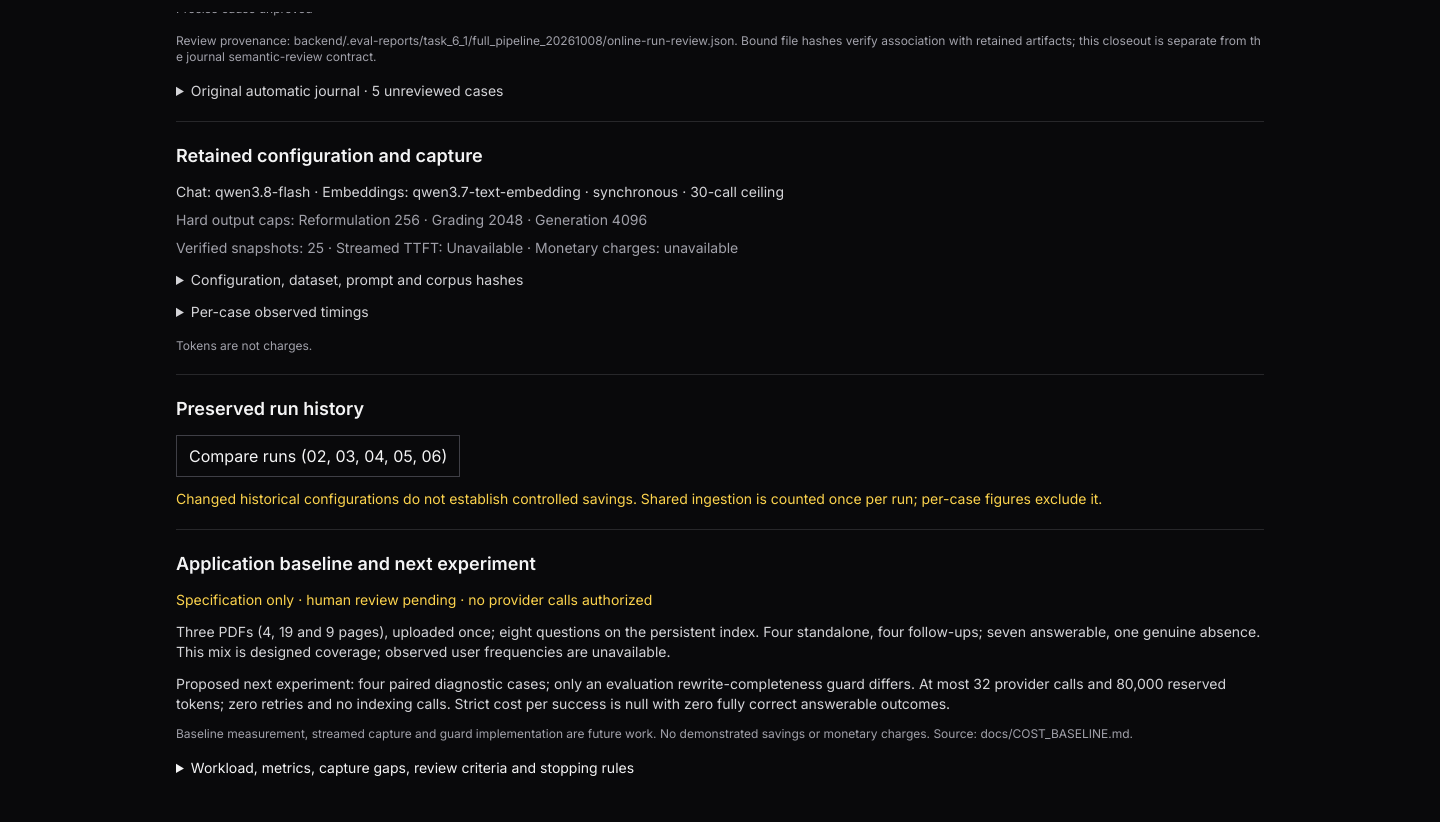
Test case: CostStation › compares interrupted history without treating unknown usage or reviews as success
The width and height of the screenshot is (1440, 822).
(page scrolled)
Click the button "Compare runs (02, 03, 04, 05, 06)": (318, 456) x1=176 y1=435 x2=460 y2=477
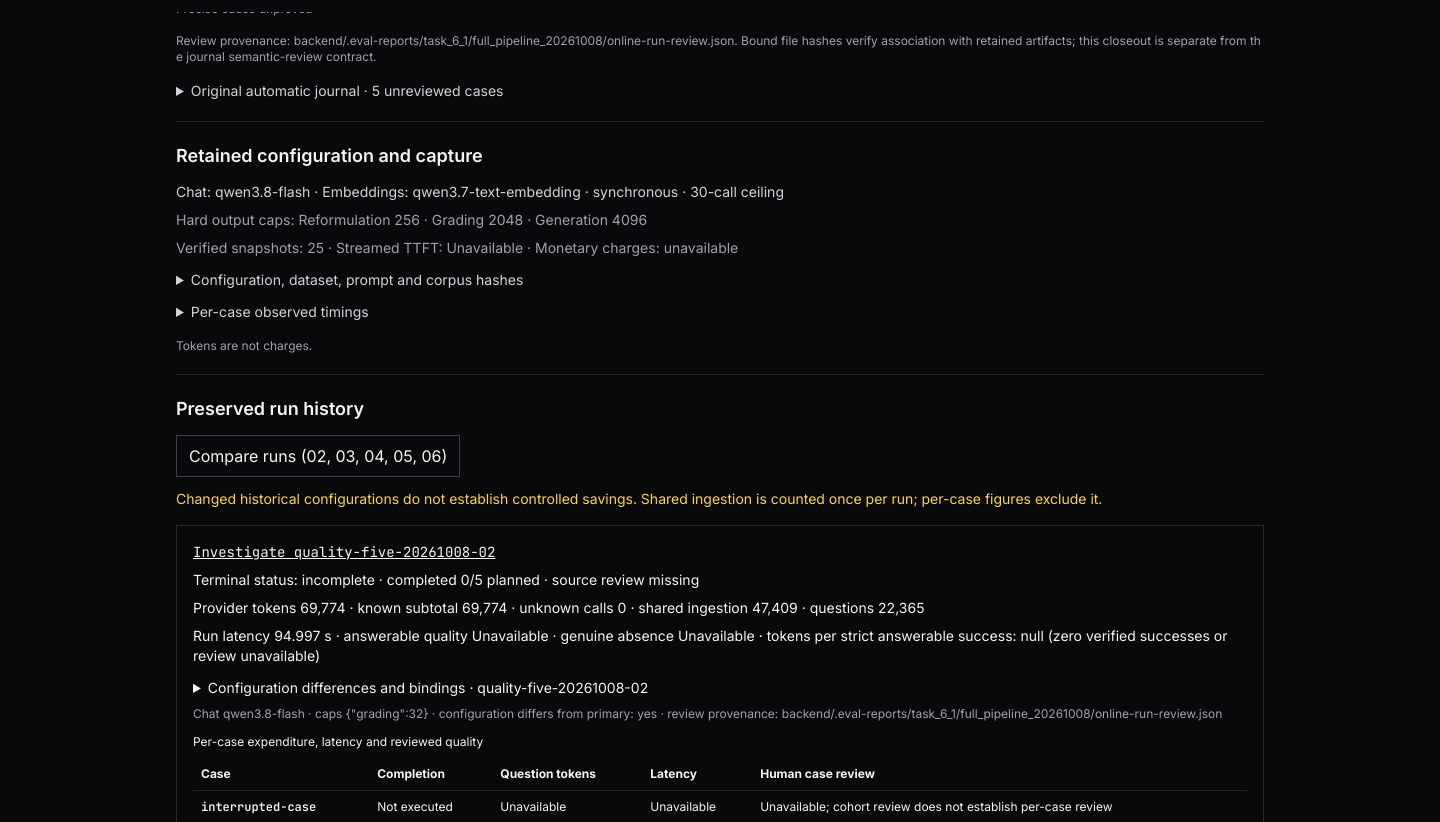
Expected: the button "Investigate quality-five-20261008-02" is shown
Expected: the text "Terminal status: incomplete · completed 0/5" is shown, x1=193 y1=571 x2=699 y2=588
Expected: the text "Not executed" is shown, x1=369 y1=790 x2=492 y2=821
Click the button "Investigate quality-five-20261008-02": (344, 552) x1=193 y1=542 x2=495 y2=562
(page scrolled)
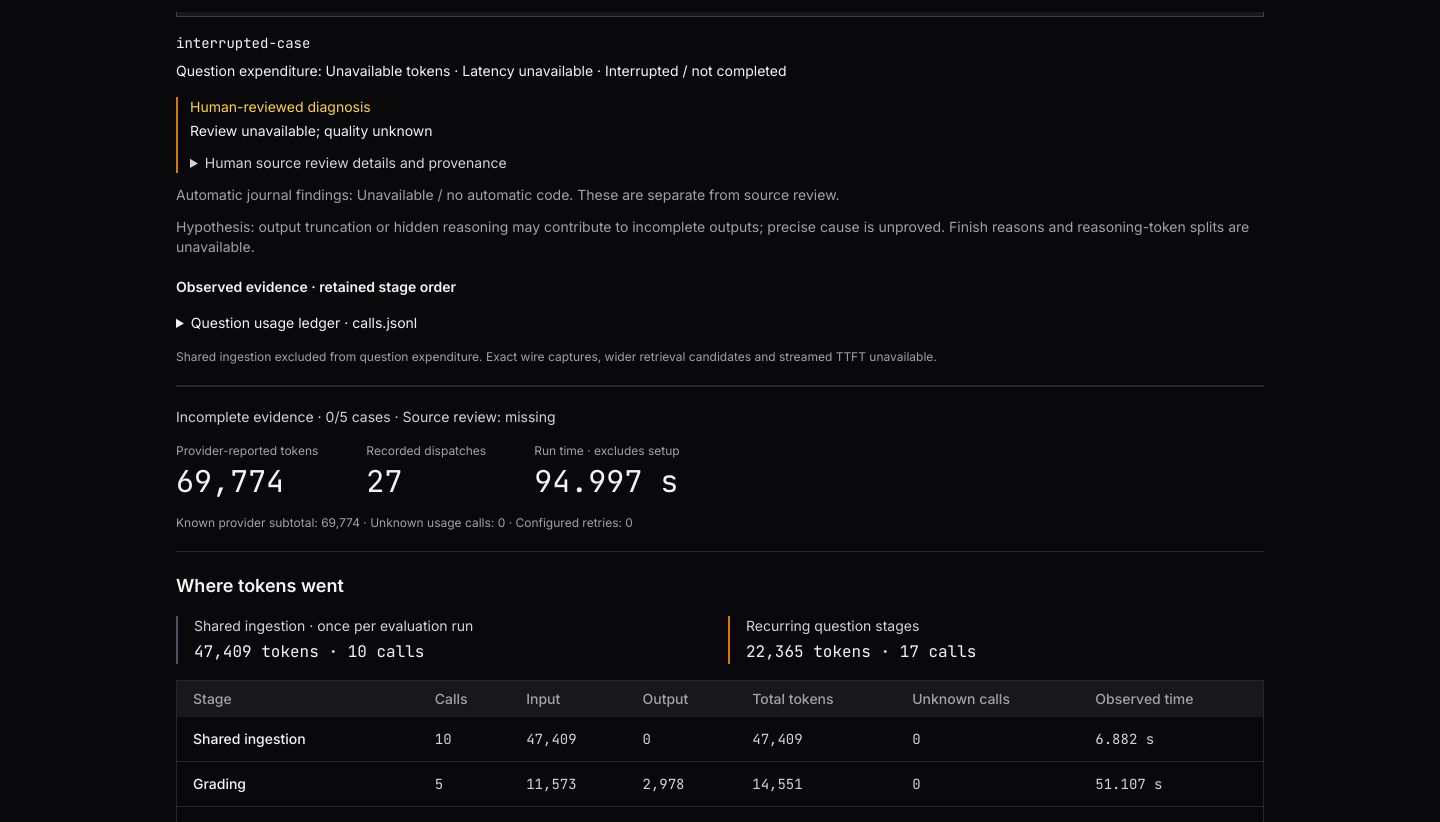
Expected: the text "Incomplete evidence · 0/5 cases · Source review: missing" is shown, x1=176 y1=408 x2=556 y2=425
